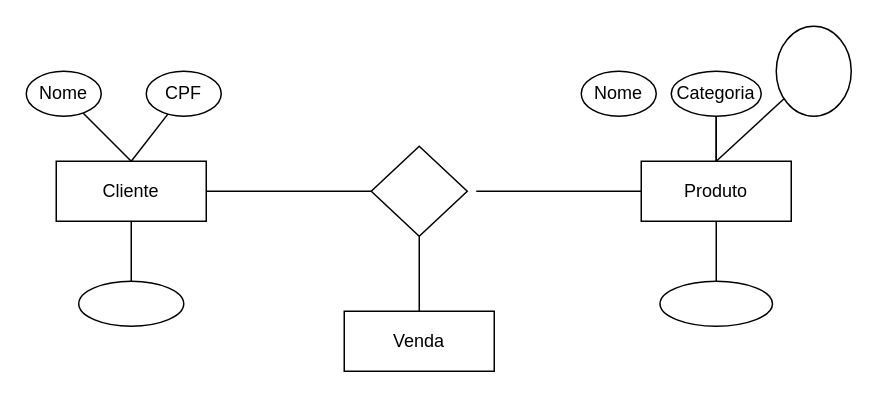
Some shapes in this 878 by 398 pixel diagram are drawn without their labels. Each missing label, with the box of its shape:
id_ Produto: (658, 280, 772, 326)
id_Cliente: (77, 280, 184, 326)
Preço de Venda: (775, 25, 851, 116)
